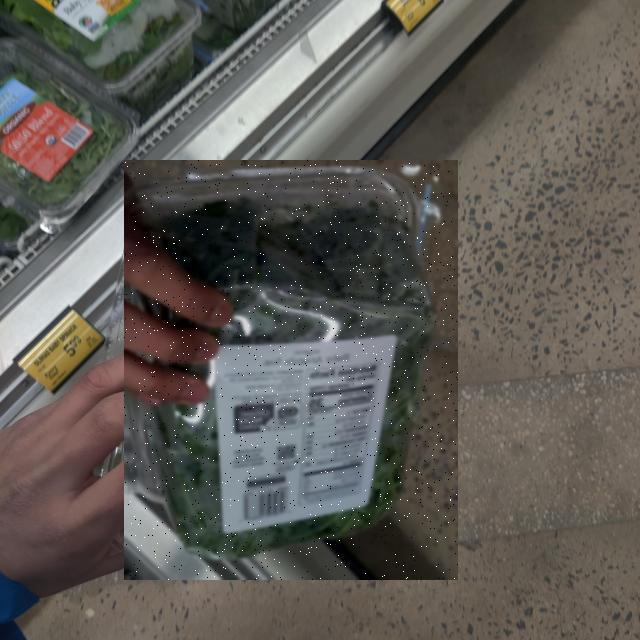Spinach: (125, 160, 459, 580)
